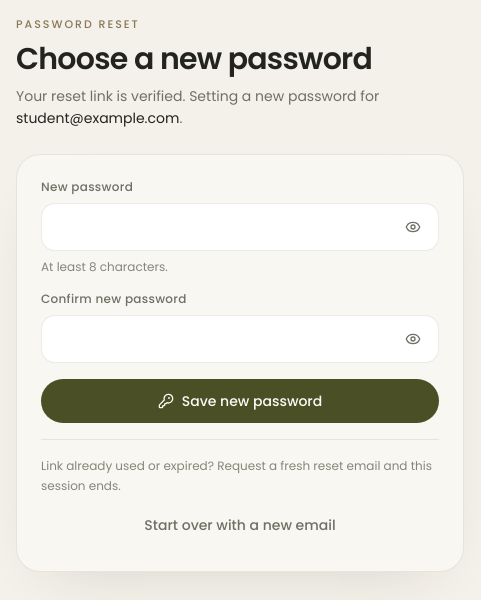
Test: ResetPasswordPage › saves a confirmed password and confirms only after Supabase succeeds
Type "new-password-1" into the password field labelled "New password" at (240, 227), box [41, 203, 439, 251]
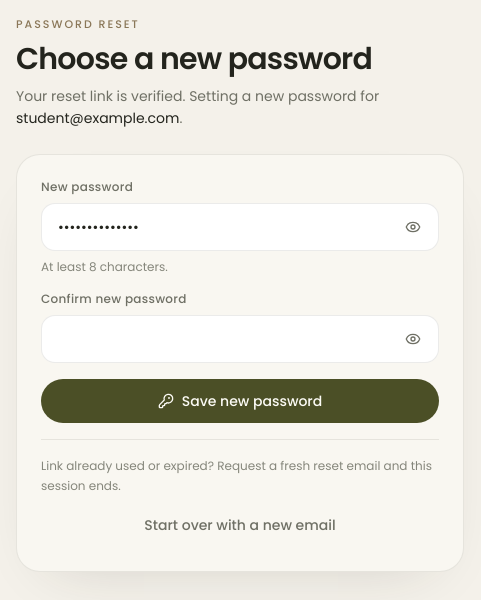
Type "new-password-1" into the password field labelled "Confirm new password" at (240, 339), box [41, 315, 439, 363]
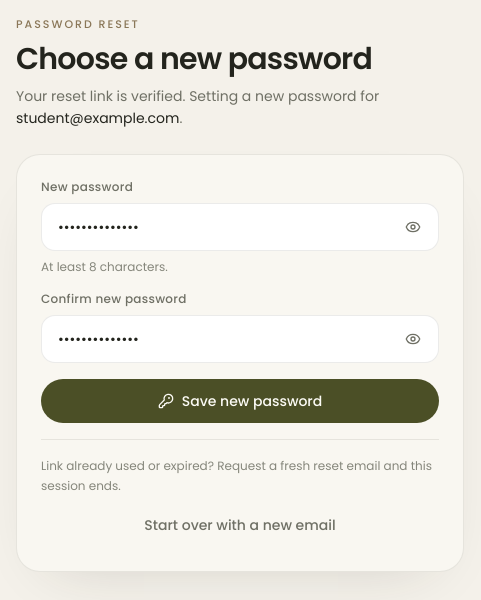
Click the button "Save new password" at (240, 401), box [41, 379, 439, 423]
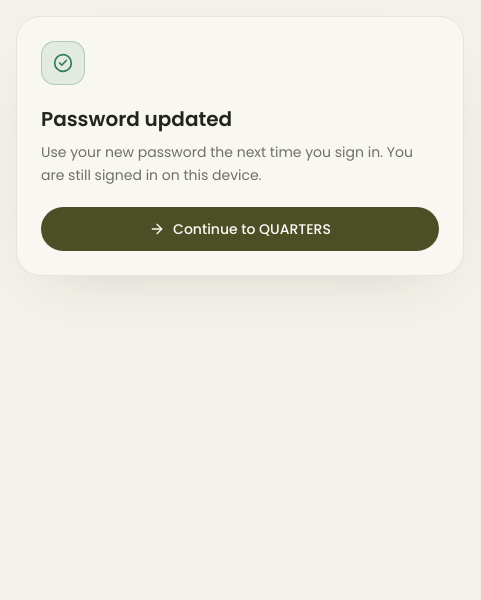
Expected: the heading "Password updated" is shown, [41, 105, 232, 133]
